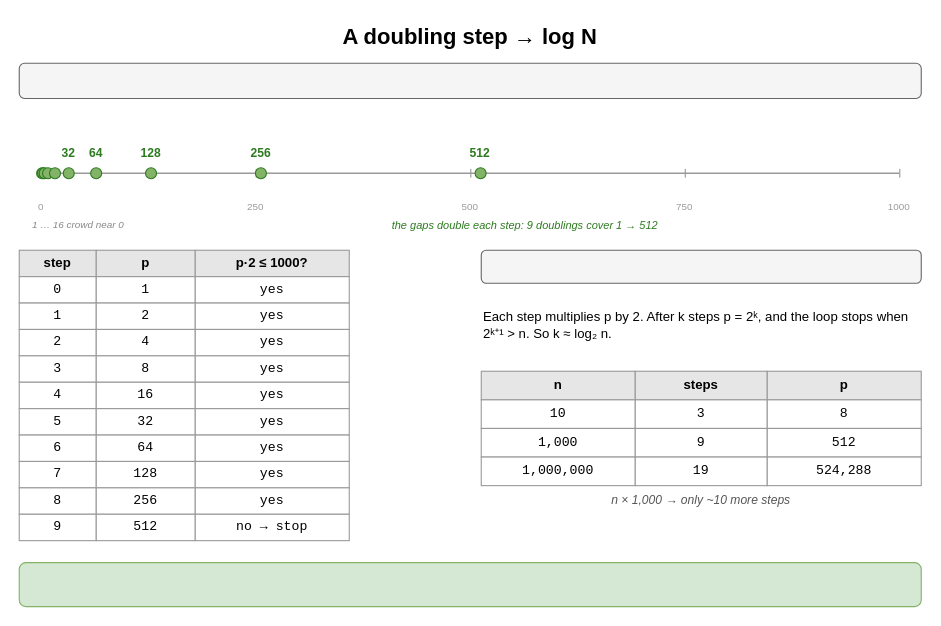
This 941x626 diagram has some shape labels left out. The shapes that lost their labels are listed below. From the top down, each one's centre as x and y in pixels, then its label:
At (469,80): "highest_power_of_two(1000): p doubles each step until 2p would pass n".
At (700,266): "Why about log₂ n steps".
At (469,584): "Answer: time O(log N), space O(1). Doubling reaches n in about log₂ n steps.".
